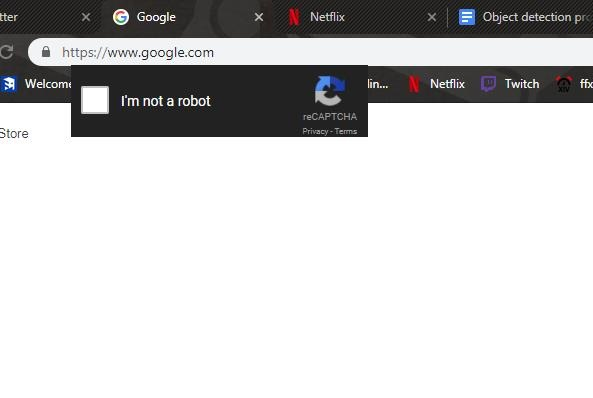captcha: (81, 85, 213, 115)
